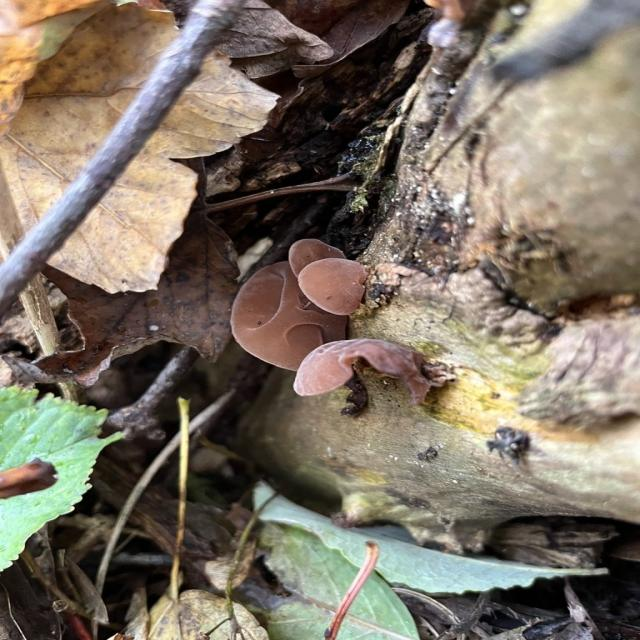Matang: (227, 259, 354, 375), (289, 338, 442, 406), (294, 258, 368, 315), (289, 237, 349, 282)
